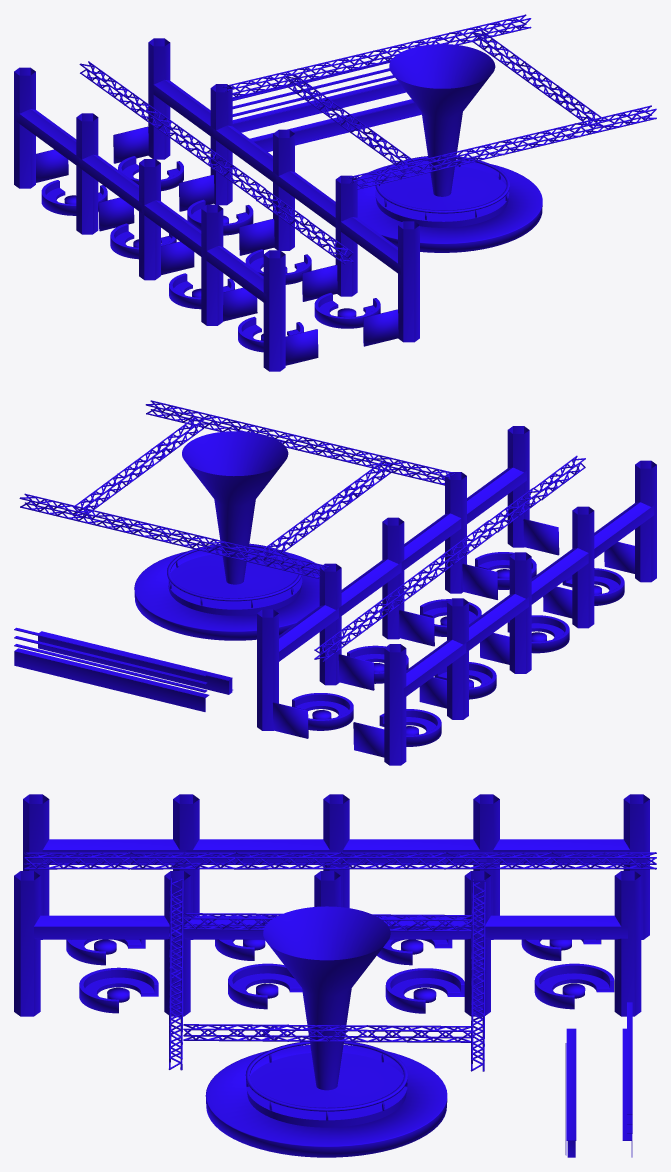
The model's file is GermanNightClub.fbx.
3 renders of one model, top to bottom at view 1: azimuth 30°, elevation 25°; view 2: azimuth 150°, elevation 25°; view 3: azimuth 270°, elevation 25°, orthographic. The views are drawn at different scales.
Visible parts, largest first — view 1: s.d9c601bf-0845-4c55-a2ea-6232402889ff, p.05eabb8c-26a3-4b09-bb89-a2d90a725b9c, s.c4556fa1-9c61-4b3c-b2f6-73c267d7af6f, s.f1021a31-dc8e-452d-9b9f-ba5383dfdf69.001, s.8d3c2fc2-7c64-4e1f-80b7-c86e74c8a304.001, s.62519b62-ebad-4f10-9303-f4b56dee0077.001, s.7f3807b3-b321-482a-bc38-6bfb0146ce39.001, s.6cbd8699-1b2c-45bf-96e2-dc649b2a8538.001, s.832eea65-54fa-4319-bc59-f9e2452c675c.001, s.df318606-f6b3-4bba-aaa8-9eb63c11e659.001, s.ce2075ab-441f-4019-88ed-c09a18131429.001, s.29a5fe44-6882-4ce0-9629-35547910fbc8.001 (+39 smaller); view 2: s.d9c601bf-0845-4c55-a2ea-6232402889ff, p.05eabb8c-26a3-4b09-bb89-a2d90a725b9c, s.c4556fa1-9c61-4b3c-b2f6-73c267d7af6f, s.832eea65-54fa-4319-bc59-f9e2452c675c.001, s.ce2075ab-441f-4019-88ed-c09a18131429.001, s.62519b62-ebad-4f10-9303-f4b56dee0077.001, s.6cbd8699-1b2c-45bf-96e2-dc649b2a8538.001, s.f1021a31-dc8e-452d-9b9f-ba5383dfdf69.001, s.7f3807b3-b321-482a-bc38-6bfb0146ce39.001, s.e427f6b6-c06c-469b-bddb-b8c85832759e.001, s.29a5fe44-6882-4ce0-9629-35547910fbc8.001, s.8d3c2fc2-7c64-4e1f-80b7-c86e74c8a304.001 (+40 smaller); view 3: s.d9c601bf-0845-4c55-a2ea-6232402889ff, s.c4556fa1-9c61-4b3c-b2f6-73c267d7af6f, s.8d3c2fc2-7c64-4e1f-80b7-c86e74c8a304.001, s.ce2075ab-441f-4019-88ed-c09a18131429.001, s.b2722792-4a2c-4ca8-b703-503cbb9e8338.001, s.5c77c199-2527-4f45-a50c-0c9ce9b126dc.001, p.05eabb8c-26a3-4b09-bb89-a2d90a725b9c, s.fa25ae6d-3de1-4af6-aeb5-27cecfe8775a.001, s.865f8e1c-41fe-49cd-a88b-a774fc10dbed.001, s.bc78b0b9-3e63-405b-bb6b-57a94584b6ab.001, s.e2981b90-bf4d-42dc-876b-c0af77c4e3c9.001, s.e427f6b6-c06c-469b-bddb-b8c85832759e.001 (+40 smaller).
Boxes of the visible parts, x1,y1,x2,y2 form: s.d9c601bf-0845-4c55-a2ea-6232402889ff: (375,44,509,227); p.05eabb8c-26a3-4b09-bb89-a2d90a725b9c: (232,59,421,151); s.c4556fa1-9c61-4b3c-b2f6-73c267d7af6f: (357,159,542,252); s.f1021a31-dc8e-452d-9b9f-ba5383dfdf69.001: (263,250,285,371); s.8d3c2fc2-7c64-4e1f-80b7-c86e74c8a304.001: (398,221,419,342); s.62519b62-ebad-4f10-9303-f4b56dee0077.001: (201,204,223,325); s.7f3807b3-b321-482a-bc38-6bfb0146ce39.001: (76,113,98,234); s.6cbd8699-1b2c-45bf-96e2-dc649b2a8538.001: (139,159,160,280); s.832eea65-54fa-4319-bc59-f9e2452c675c.001: (14,67,35,188); s.df318606-f6b3-4bba-aaa8-9eb63c11e659.001: (335,175,357,296); s.ce2075ab-441f-4019-88ed-c09a18131429.001: (148,38,170,159); s.29a5fe44-6882-4ce0-9629-35547910fbc8.001: (273,129,294,250); s.d9c601bf-0845-4c55-a2ea-6232402889ff: (168,431,302,615); p.05eabb8c-26a3-4b09-bb89-a2d90a725b9c: (14,627,232,711); s.c4556fa1-9c61-4b3c-b2f6-73c267d7af6f: (134,546,319,640); s.832eea65-54fa-4319-bc59-f9e2452c675c.001: (384,644,406,765); s.ce2075ab-441f-4019-88ed-c09a18131429.001: (257,609,278,730); s.62519b62-ebad-4f10-9303-f4b56dee0077.001: (572,506,594,628); s.6cbd8699-1b2c-45bf-96e2-dc649b2a8538.001: (509,552,531,673); s.f1021a31-dc8e-452d-9b9f-ba5383dfdf69.001: (635,460,656,582); s.7f3807b3-b321-482a-bc38-6bfb0146ce39.001: (447,598,468,719); s.e427f6b6-c06c-469b-bddb-b8c85832759e.001: (319,563,341,685); s.29a5fe44-6882-4ce0-9629-35547910fbc8.001: (382,517,404,639); s.8d3c2fc2-7c64-4e1f-80b7-c86e74c8a304.001: (507,426,529,547); s.d9c601bf-0845-4c55-a2ea-6232402889ff: (246,906,407,1127); s.c4556fa1-9c61-4b3c-b2f6-73c267d7af6f: (205,1045,447,1157); s.8d3c2fc2-7c64-4e1f-80b7-c86e74c8a304.001: (14,871,40,1016); s.ce2075ab-441f-4019-88ed-c09a18131429.001: (614,871,641,1016); s.b2722792-4a2c-4ca8-b703-503cbb9e8338.001: (485,915,627,939); s.5c77c199-2527-4f45-a50c-0c9ce9b126dc.001: (34,915,177,939); p.05eabb8c-26a3-4b09-bb89-a2d90a725b9c: (565,1002,632,1157); s.fa25ae6d-3de1-4af6-aeb5-27cecfe8775a.001: (186,839,336,863); s.865f8e1c-41fe-49cd-a88b-a774fc10dbed.001: (42,839,186,863); s.bc78b0b9-3e63-405b-bb6b-57a94584b6ab.001: (343,839,486,863); s.e2981b90-bf4d-42dc-876b-c0af77c4e3c9.001: (493,839,636,863); s.e427f6b6-c06c-469b-bddb-b8c85832759e.001: (464,871,490,1016).
Size of the model in its own units: 352 by 108 by 364.
